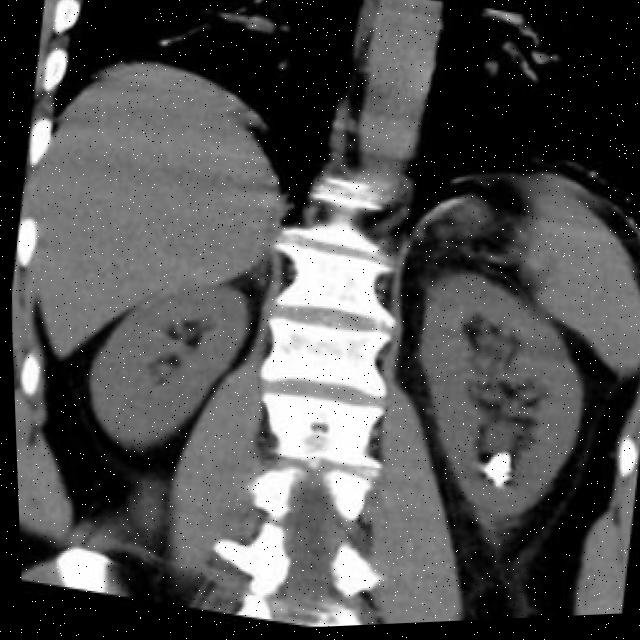Tas_Var: (468, 442, 521, 504)
